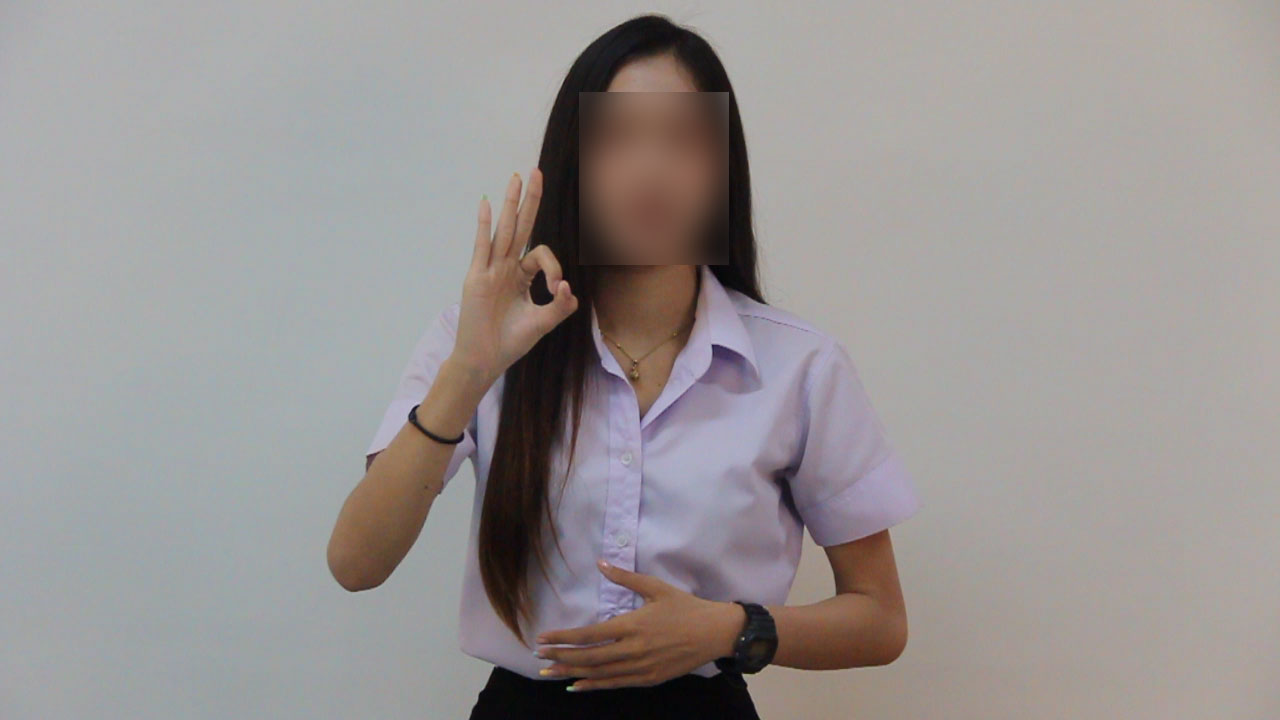for: (429, 152, 588, 380)
